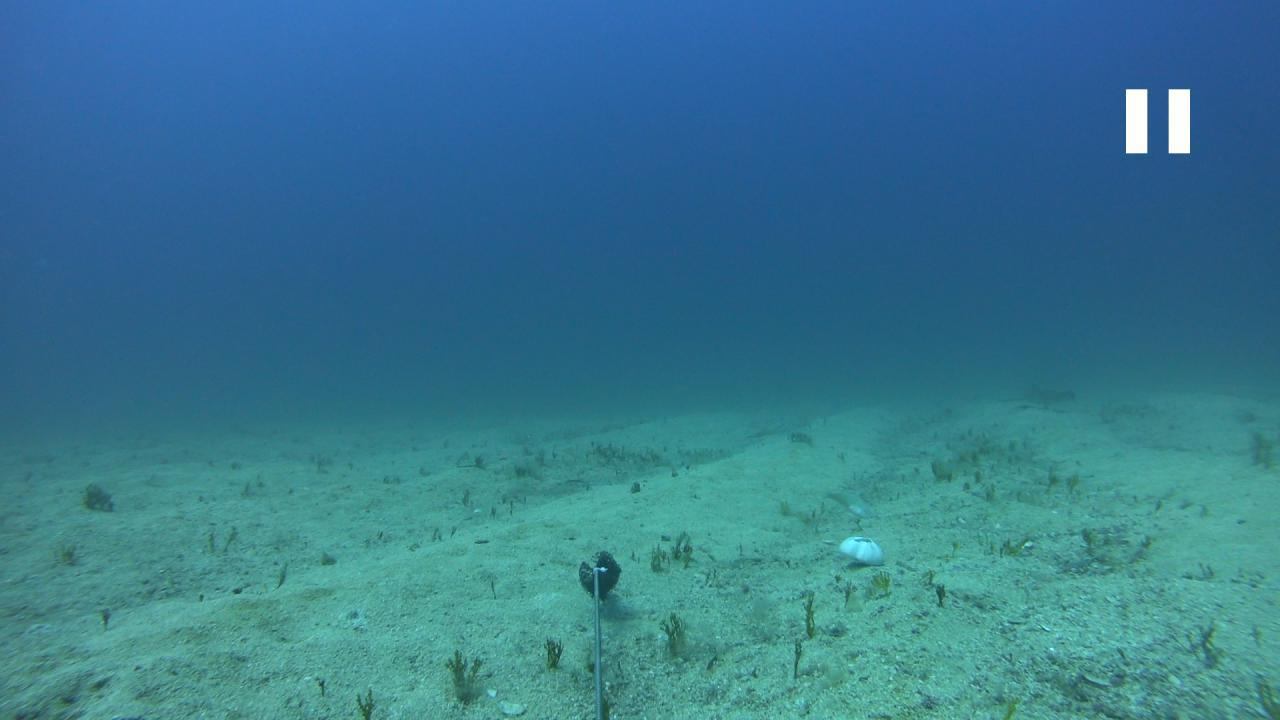dasyatis: (994, 384, 1080, 408)
